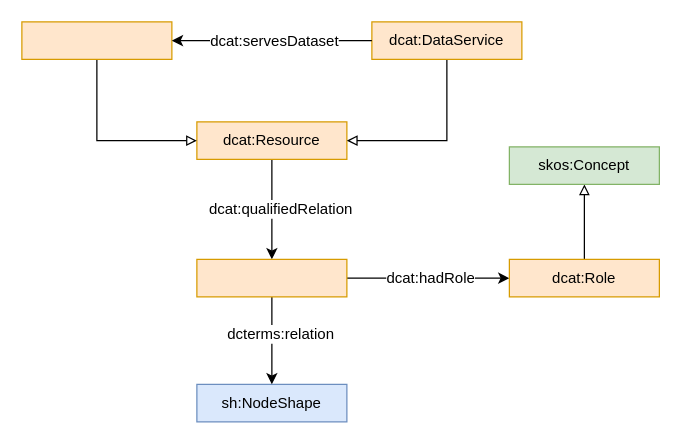
The diagram is 681 pixels wide and 444 high, and some of its shapes have lost their labels. The centre of each missing label's shape, as x and y in pixels:
"dcat:Dataset" goes at (96,40).
"dcat:Relationship" goes at (271,277).
